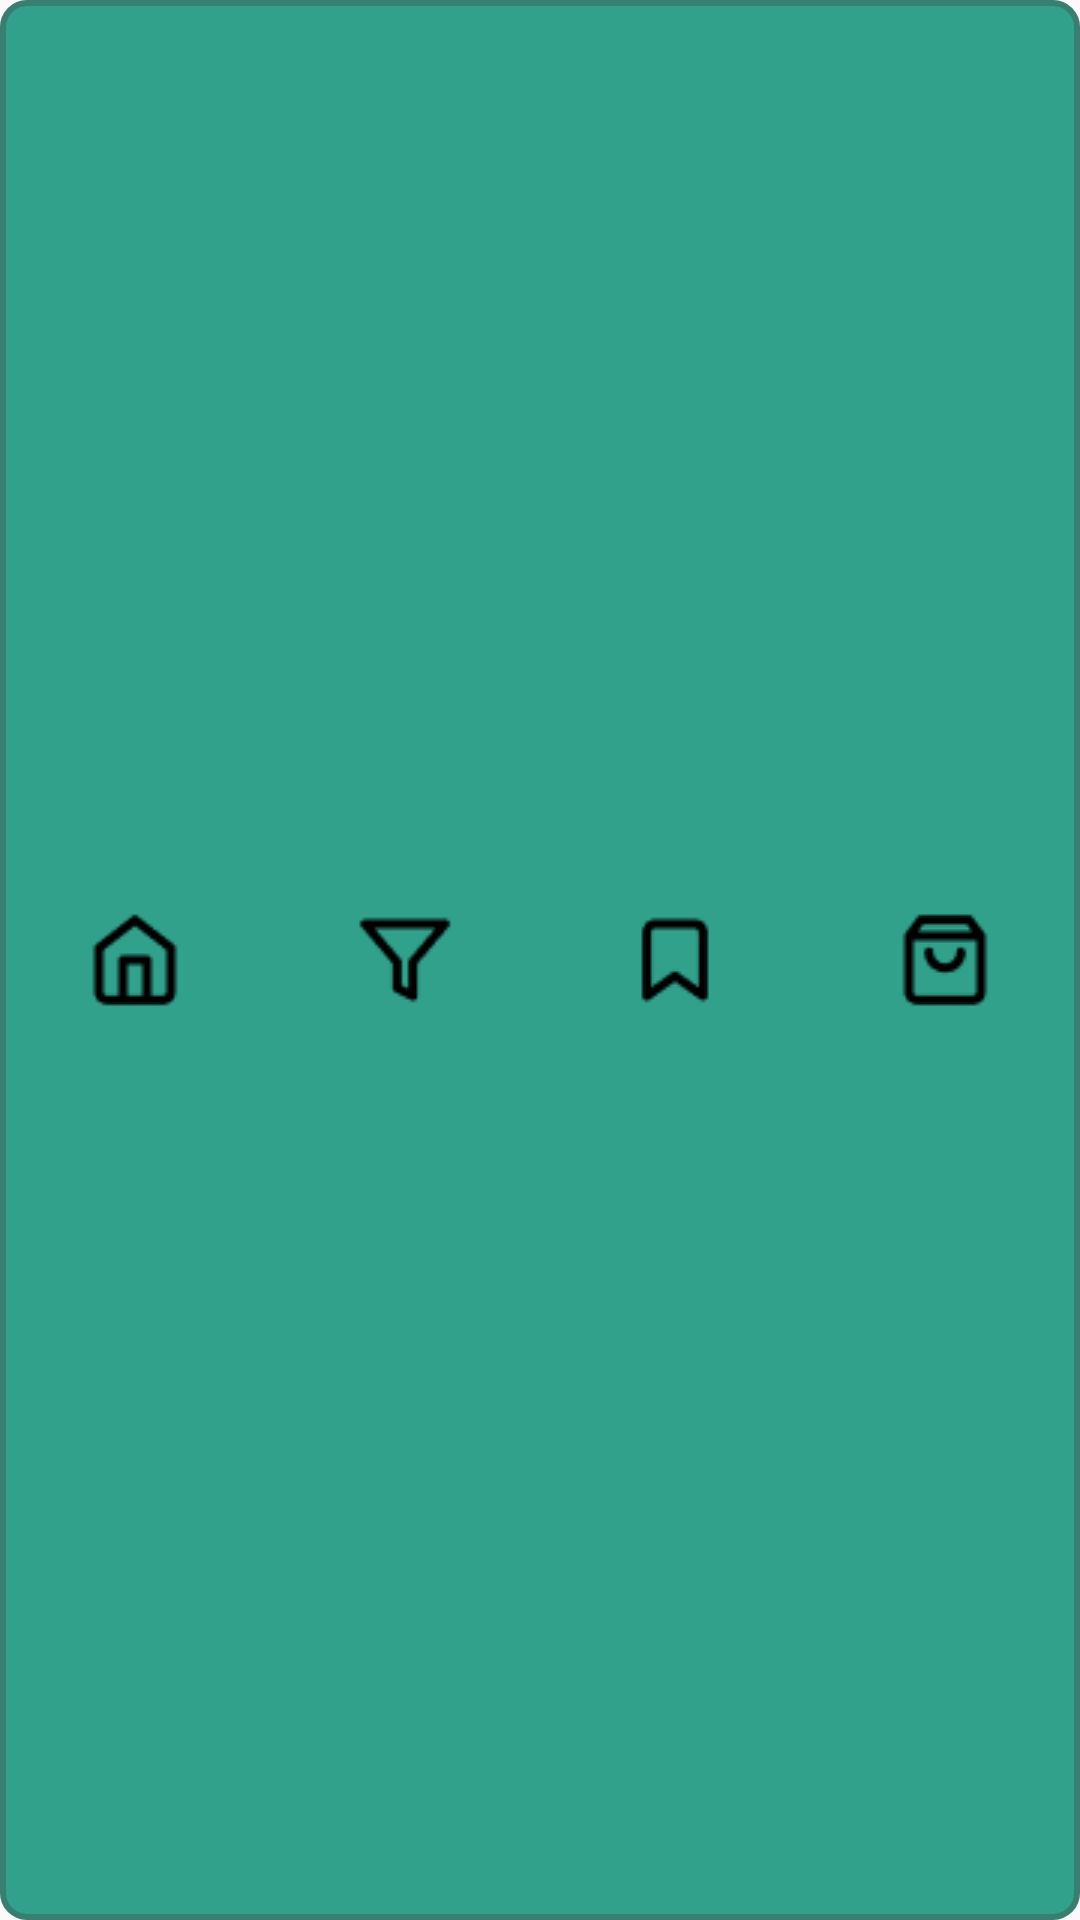

Where icons sit on this 1080 x 1920 app screen, as (x1, y1, x2, y2):
bag: (902, 914, 988, 1006)
bookmark: (641, 917, 709, 1003)
filter: (359, 917, 451, 1003)
home: (92, 914, 178, 1006)
